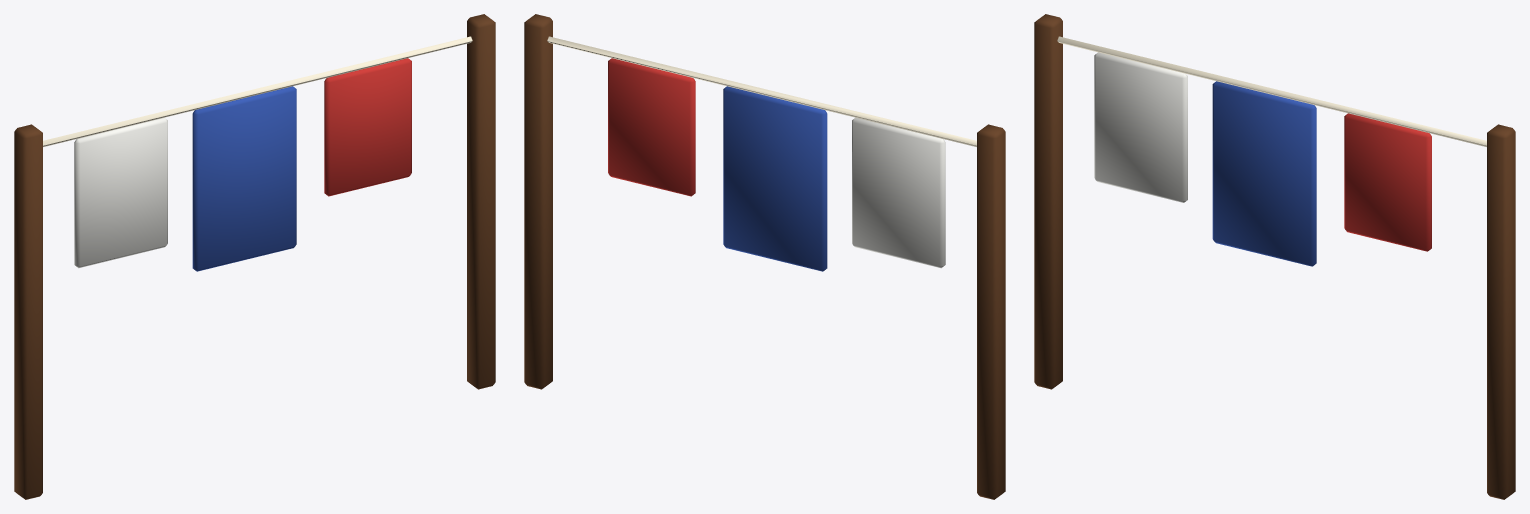
Rendered from P_MedLaundryLine.fbx.
The picture shows the model from 3 angles, left to right: view 1: azimuth 30°, elevation 25°; view 2: azimuth 150°, elevation 25°; view 3: azimuth 330°, elevation 25°; orthographic projection.
Parts seen in each view (by area): view 1: M_LaundryLine; view 2: M_LaundryLine; view 3: M_LaundryLine.
Boxes of the visible parts, <box> form: M_LaundryLine: <box>14,14,495,499</box>; M_LaundryLine: <box>524,14,1005,499</box>; M_LaundryLine: <box>1034,14,1515,499</box>.
Bounding box in the file's own units: 2.3 × 1.7 × 0.1.
1 material, 1 textured.
